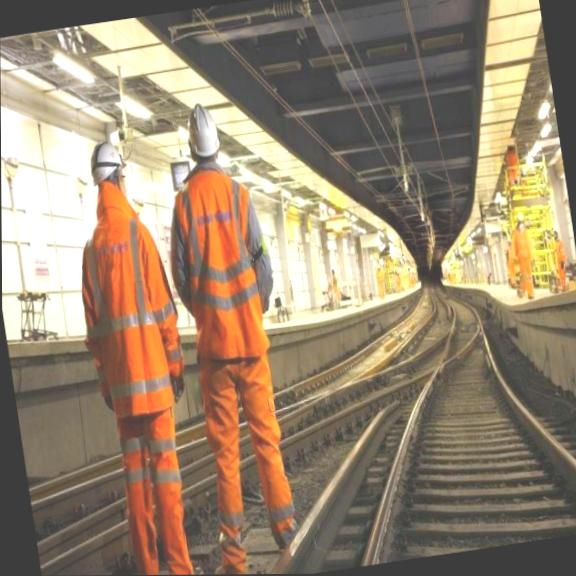safety_vest: (62, 169, 188, 426), (162, 161, 288, 371)
